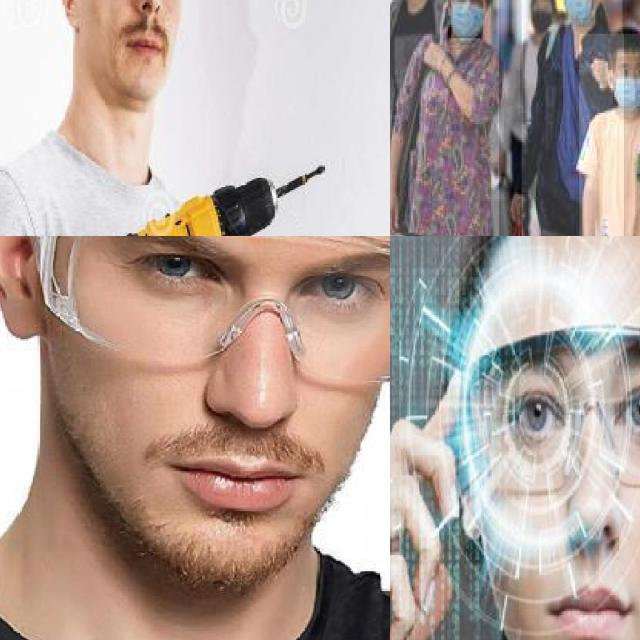No_Ear-Protection: (0, 236, 43, 341), (56, 0, 90, 32)
face_mask: (612, 56, 640, 110), (448, 0, 485, 40), (530, 0, 554, 34), (563, 0, 595, 22)
face_nomask: (94, 236, 390, 547), (500, 374, 640, 640), (97, 0, 186, 75)
glasses: (28, 236, 390, 389), (463, 321, 640, 497)
hand_noglove: (390, 369, 475, 640), (505, 190, 532, 230), (390, 191, 401, 236)
head_nohelmet: (606, 31, 640, 69)
person: (0, 0, 284, 236), (390, 0, 500, 236), (521, 0, 624, 236), (579, 33, 640, 236)
